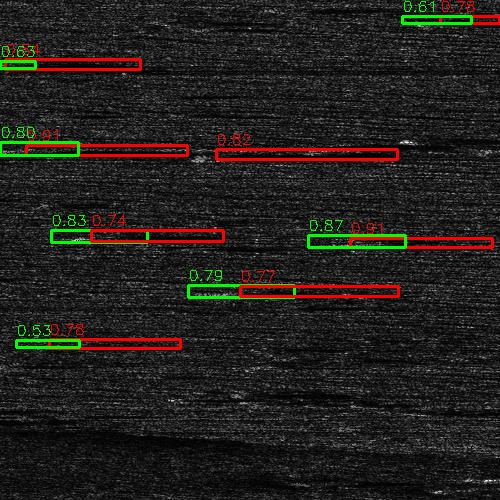rock: (163, 286, 320, 299), (233, 5, 326, 12), (64, 232, 117, 241), (20, 146, 73, 153), (346, 241, 409, 246), (444, 475, 500, 480), (421, 17, 452, 24), (0, 61, 35, 66), (275, 144, 328, 147), (0, 361, 29, 366), (32, 341, 73, 344), (210, 244, 241, 247), (491, 145, 500, 152), (421, 135, 432, 140)
shadow: (242, 286, 415, 299), (91, 232, 220, 241), (47, 146, 205, 153), (280, 5, 425, 12), (15, 61, 172, 66), (378, 241, 500, 246), (0, 361, 89, 366), (437, 17, 500, 24), (221, 154, 360, 157), (53, 341, 177, 344), (427, 135, 500, 140), (302, 144, 410, 147), (226, 244, 330, 247), (0, 259, 22, 264)
